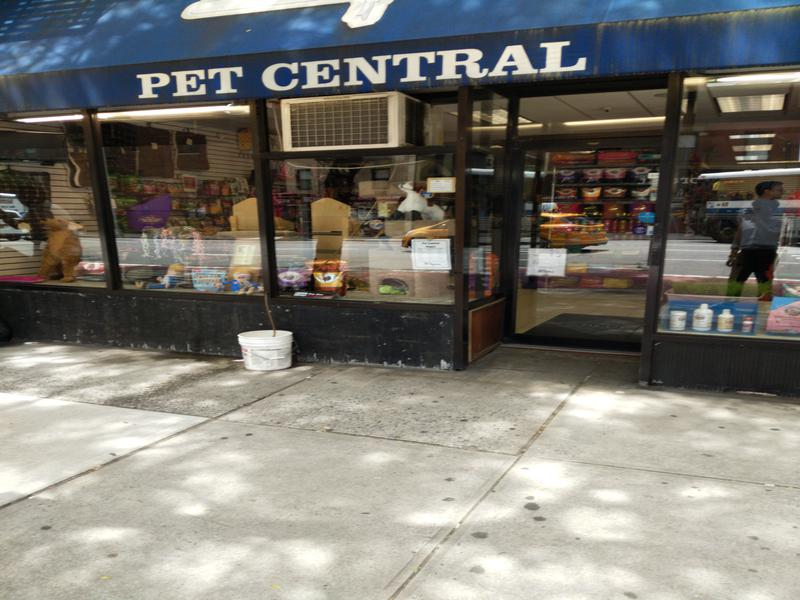door: (503, 129, 664, 361)
